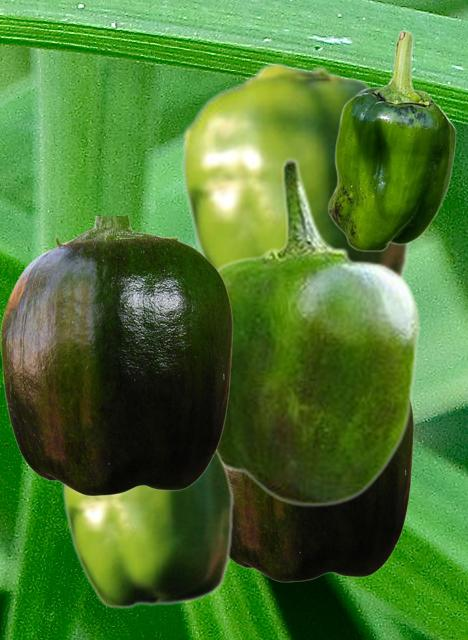bell_pepper: (216, 157, 420, 507), (0, 216, 232, 495), (181, 61, 413, 279), (229, 404, 413, 581), (327, 29, 455, 251), (62, 449, 233, 608)
